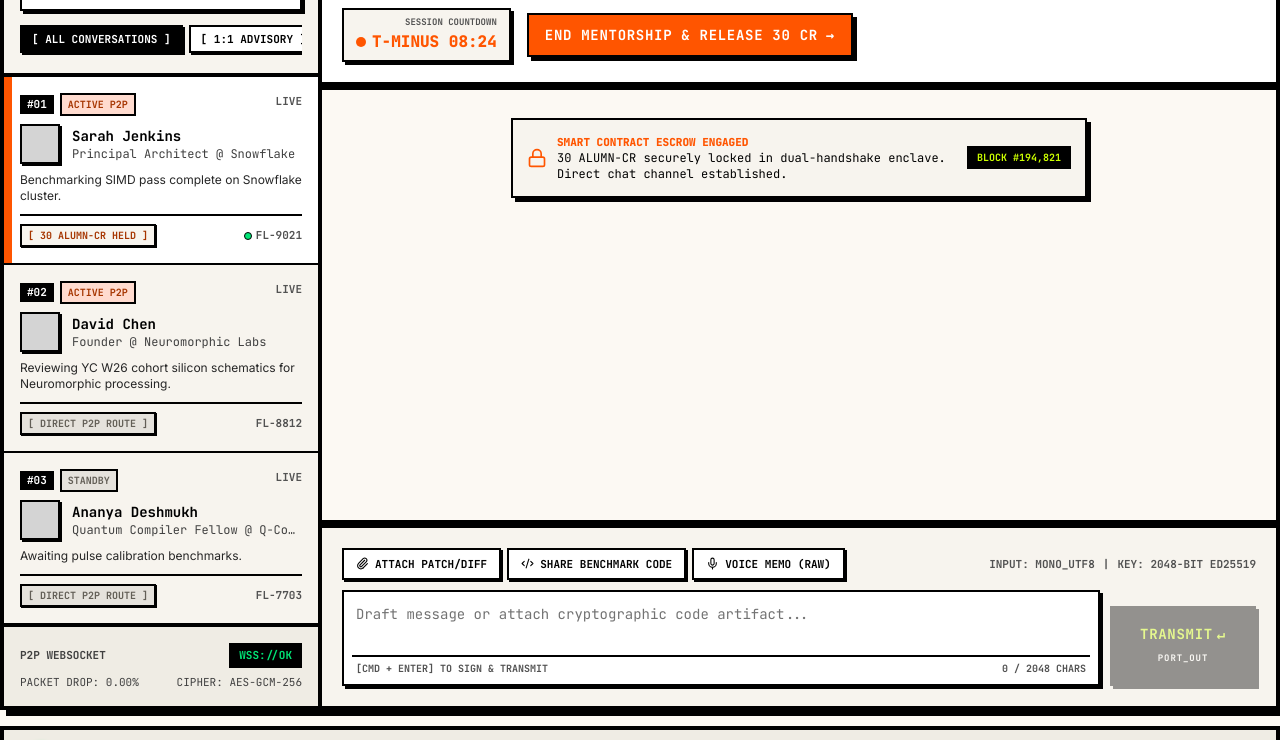
Test: ChatContent (Unified Messaging & Advisory Conduit) › allows typing and transmitting a new message
(page scrolled)
expect the button "TRANSMIT ↵ PORT_OUT" is disabled: met, box [1110,606,1256,686]
Type message
In the text box with placeholder "Draft message or attach cryptographic code artifact...": coordinates (721, 624) [352,600,1090,648], type "Benchmarking SIMD pass complete."
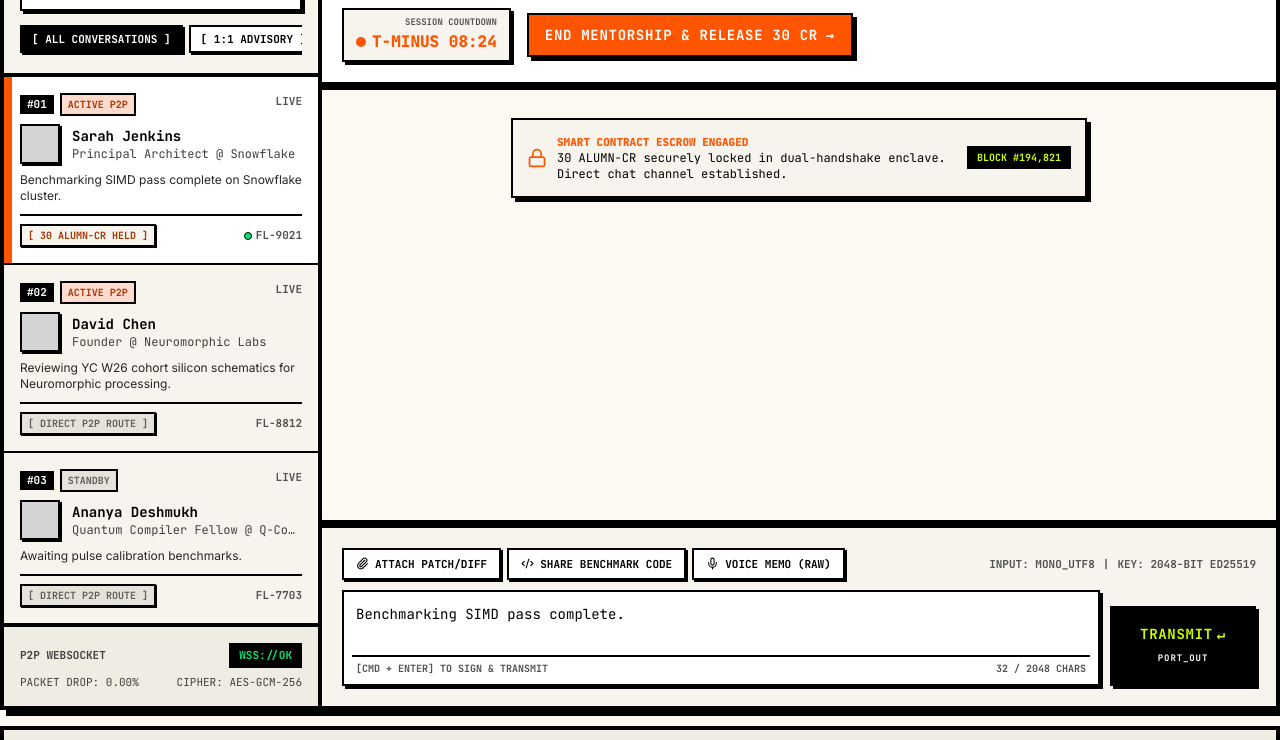
expect the text "32 / 2048 CHARS" is shown: met, box [996,661,1086,676]
expect the button "TRANSMIT ↵ PORT_OUT" is enabled: met
Click transmit
Click the button "TRANSMIT ↵ PORT_OUT": coordinates (1183, 646) [1110,606,1256,686]
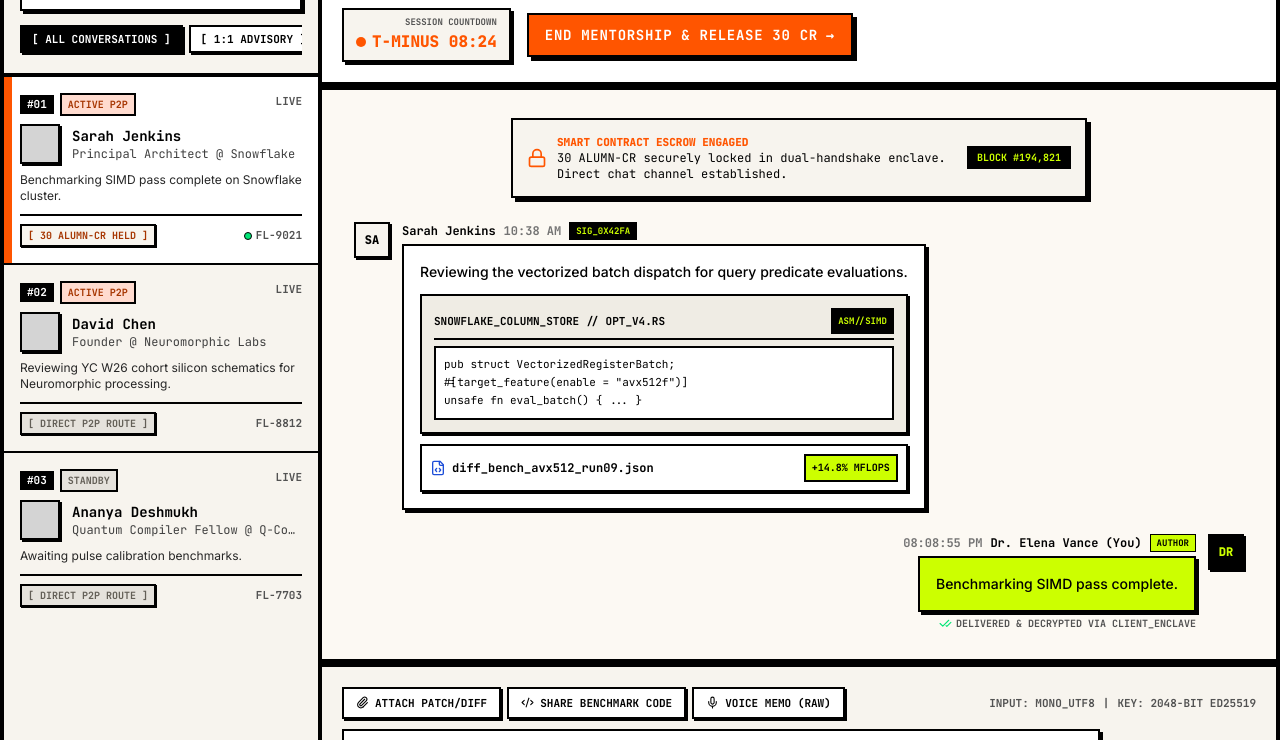
expect the text "Benchmarking SIMD pass complete." is shown: met, box [936,574,1178,594]
